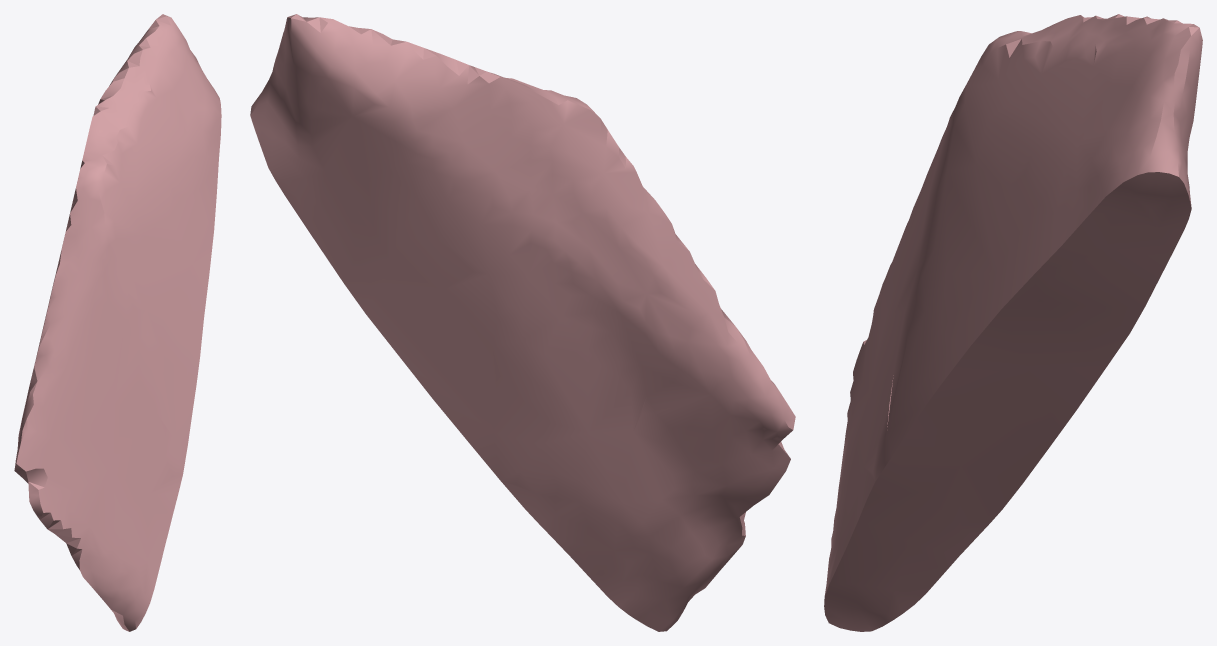
Rendered from fma39376-n_mm1969.glb.
3 views of the same model, side by side, from view 1: azimuth 30°, elevation 25°; view 2: azimuth 150°, elevation 25°; view 3: azimuth 270°, elevation 25° (orthographic). The views are drawn at different scales.
Visible parts, largest first — view 1: FMA39376-N_MM1969; view 2: FMA39376-N_MM1969; view 3: FMA39376-N_MM1969.
Boxes of the visible parts, x1,y1,x2,y2 form: FMA39376-N_MM1969: (14, 14, 221, 631); FMA39376-N_MM1969: (250, 14, 795, 631); FMA39376-N_MM1969: (824, 14, 1202, 631).
Bounding box in the file's own units: 0.00881 × 0.014 × 0.0067.
